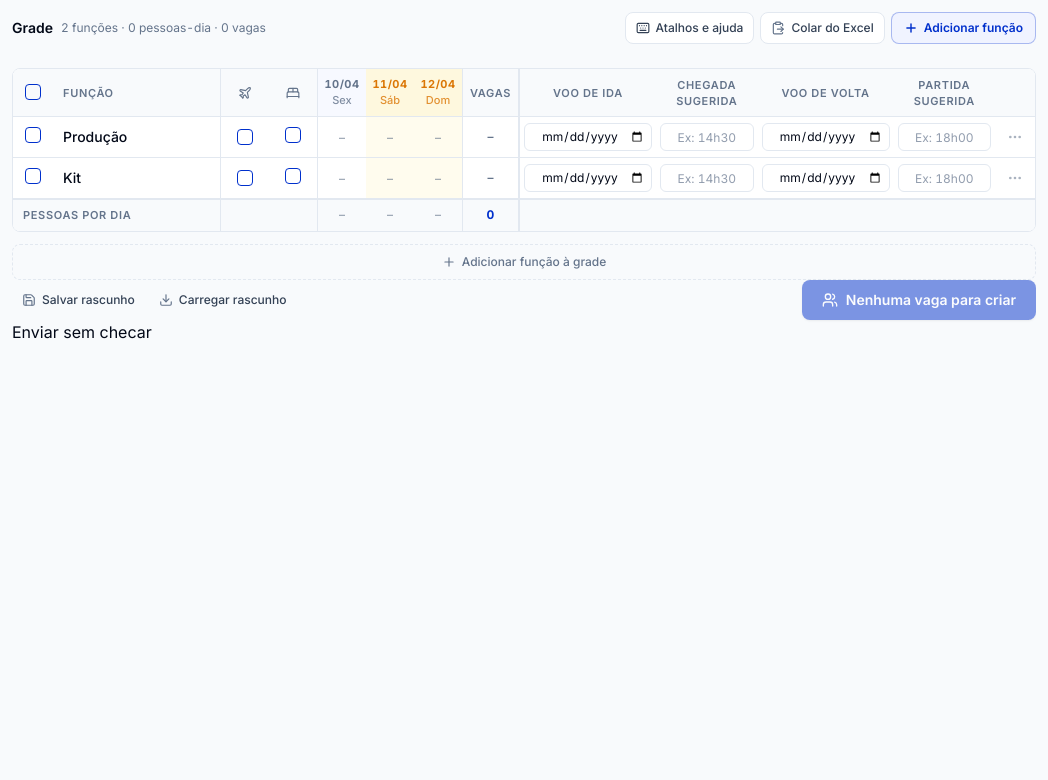
Scenario: FunctionsGrid › envio válido: um POST transacional em /api/team-inclusions/bulk com uma vaga por pessoa, sem status/fase, e a grade zera
In the 1st field with placeholder "–": {"x": 342, "y": 137} [320,123,364,151], type "2"
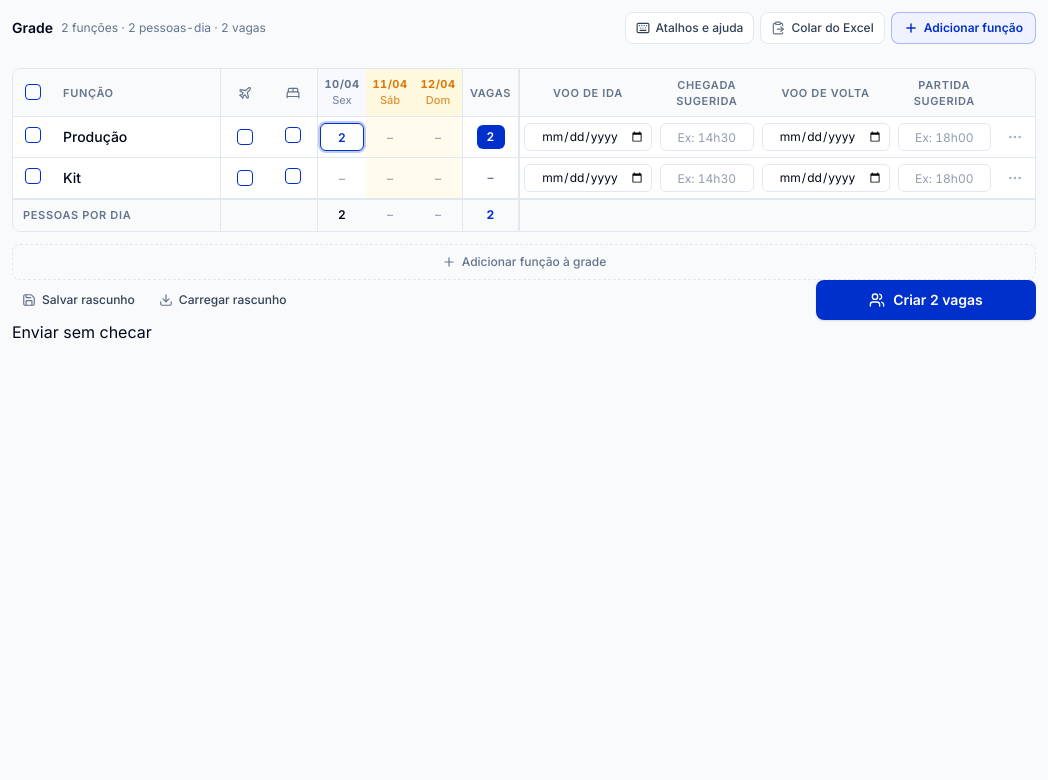
In the 1st field with placeholder "–": {"x": 390, "y": 137} [368,123,412,151], type "2"
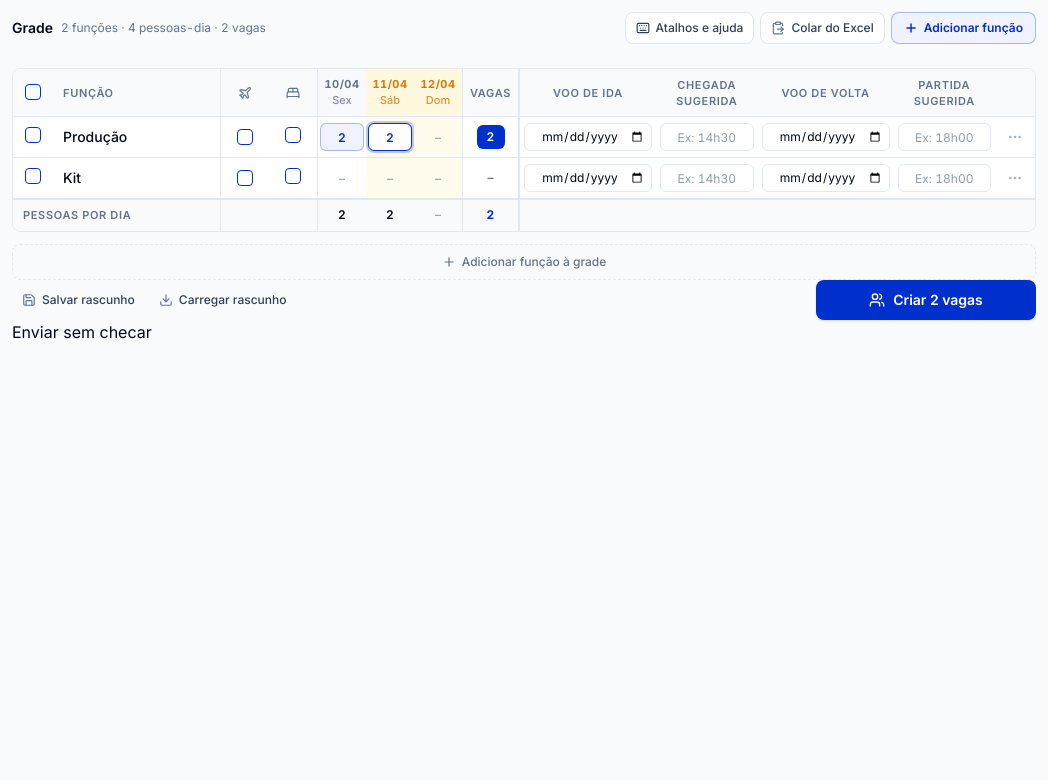
In the 4th field with placeholder "–": {"x": 438, "y": 178} [416,164,460,192], type "1"
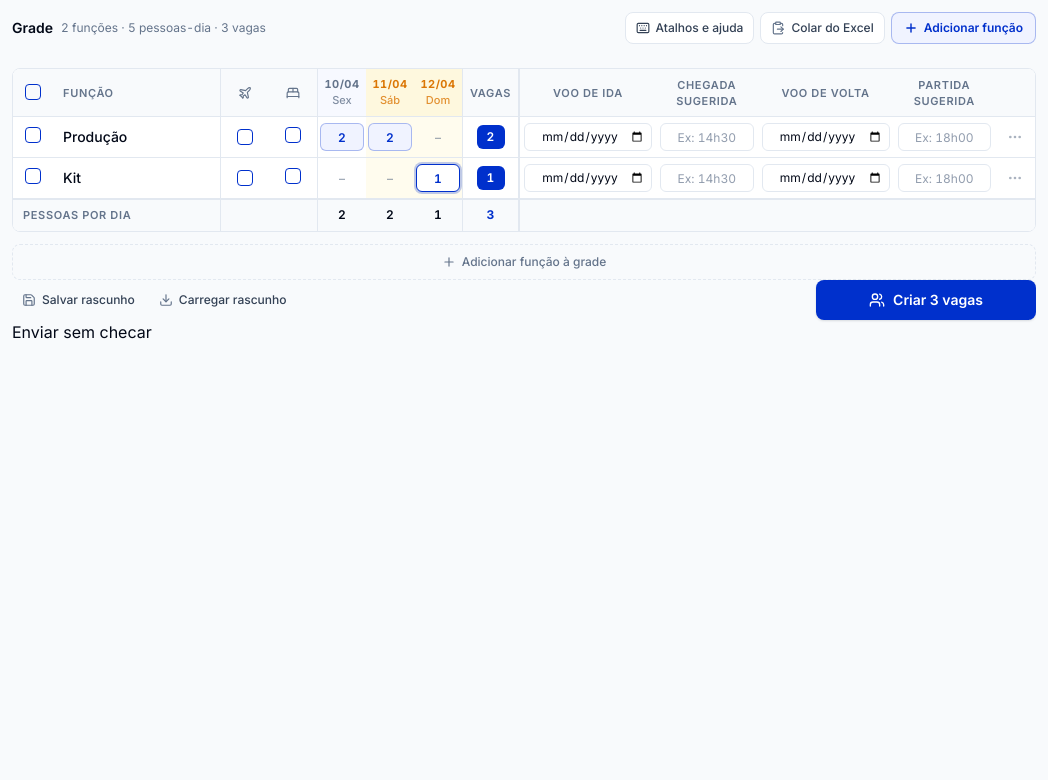
Click the button with test id "button-save-grid": {"x": 926, "y": 300} [816,280,1036,320]
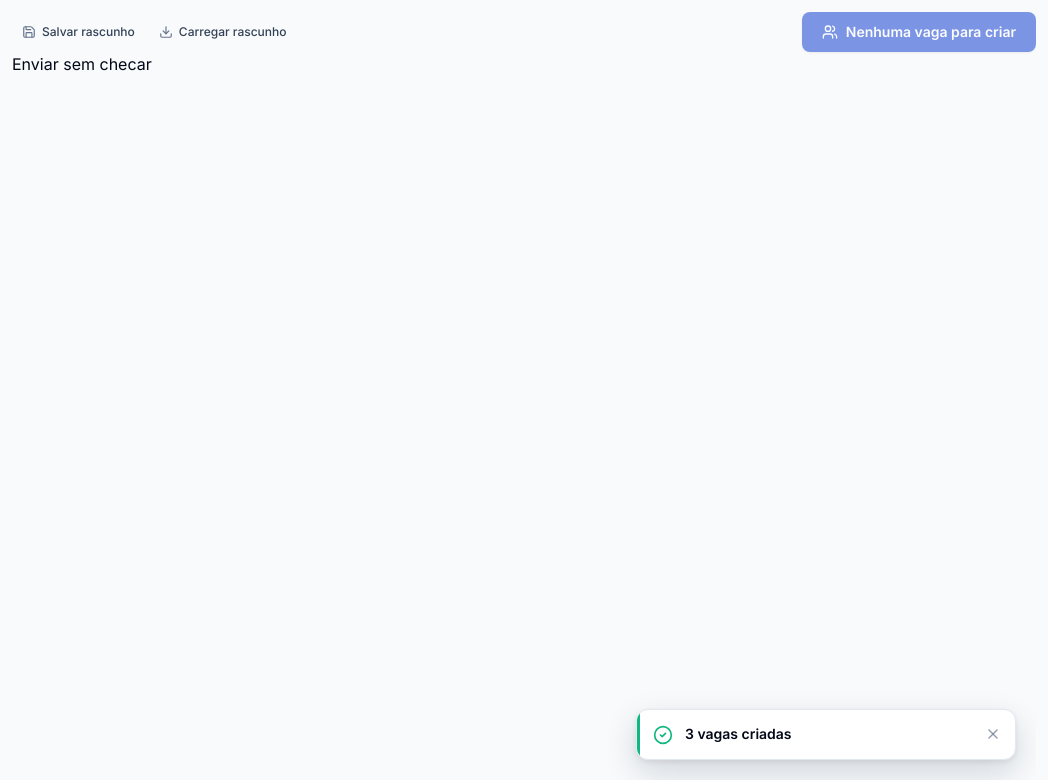
Expected: the table is gone
